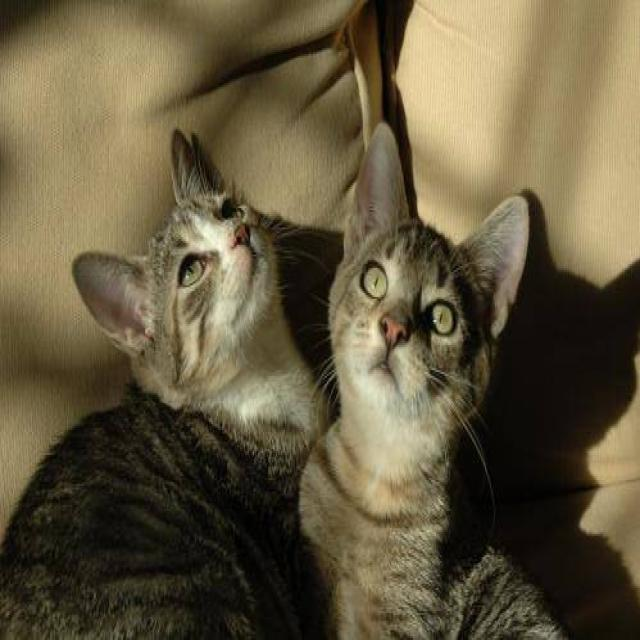Cat: (328, 104, 539, 470), (67, 104, 290, 405)
